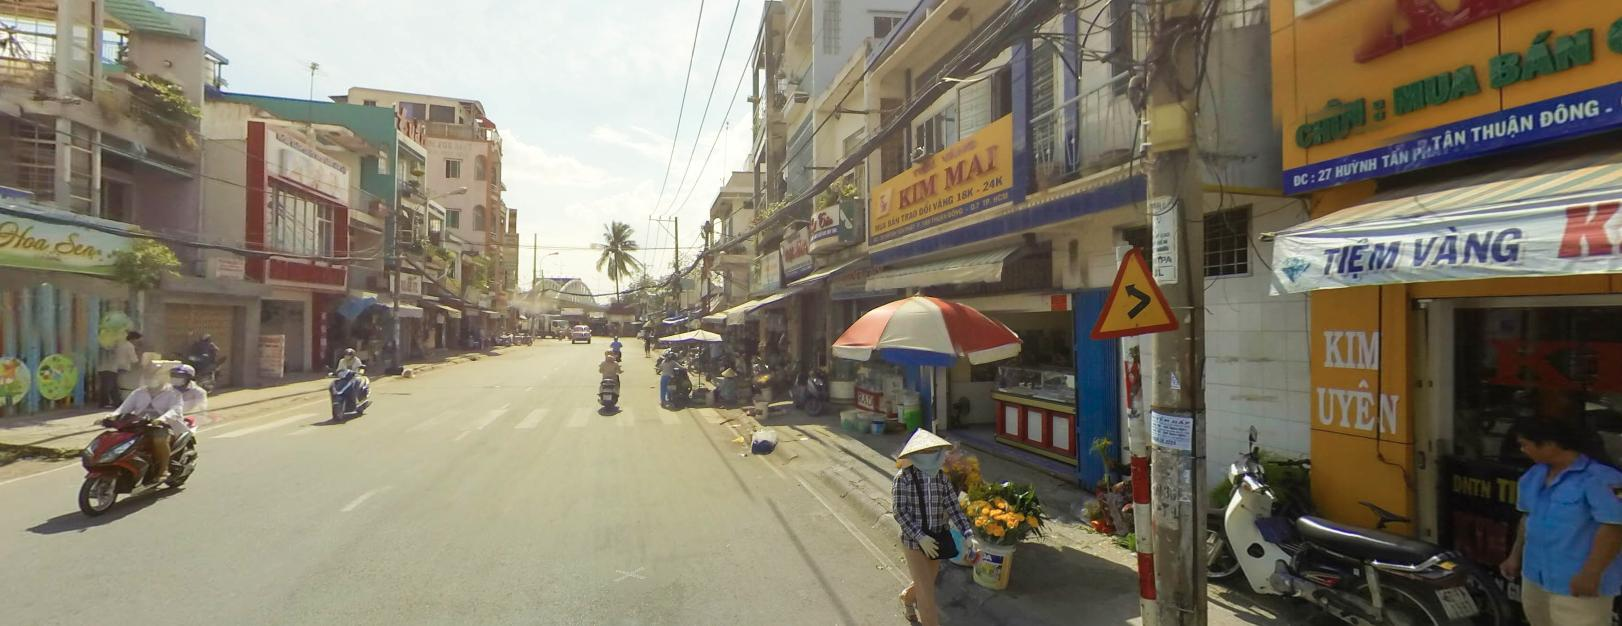Nguy hiem: (1086, 247, 1177, 338)
